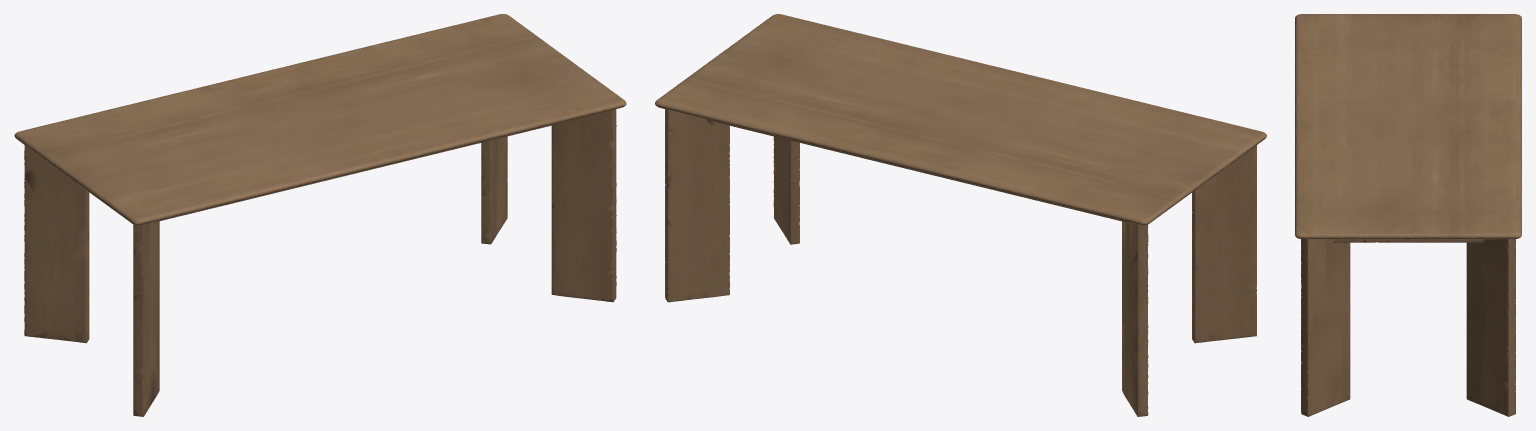
The model's file is war-table.glb.
The picture shows the model from 3 angles, left to right: view 1: azimuth 30°, elevation 25°; view 2: azimuth 150°, elevation 25°; view 3: azimuth 270°, elevation 25°; orthographic projection. The views are drawn at different scales.
Parts seen in each view (by area): view 1: geometry_0; view 2: geometry_0; view 3: geometry_0.
Boxes of the visible parts, x1,y1,x2,y2 form: geometry_0: (14, 14, 626, 416); geometry_0: (655, 14, 1266, 416); geometry_0: (1295, 14, 1521, 416).
Size of the model in its own units: 0.9984 by 0.3876 by 0.4312.
Materials: 1 (1 with a texture image).
